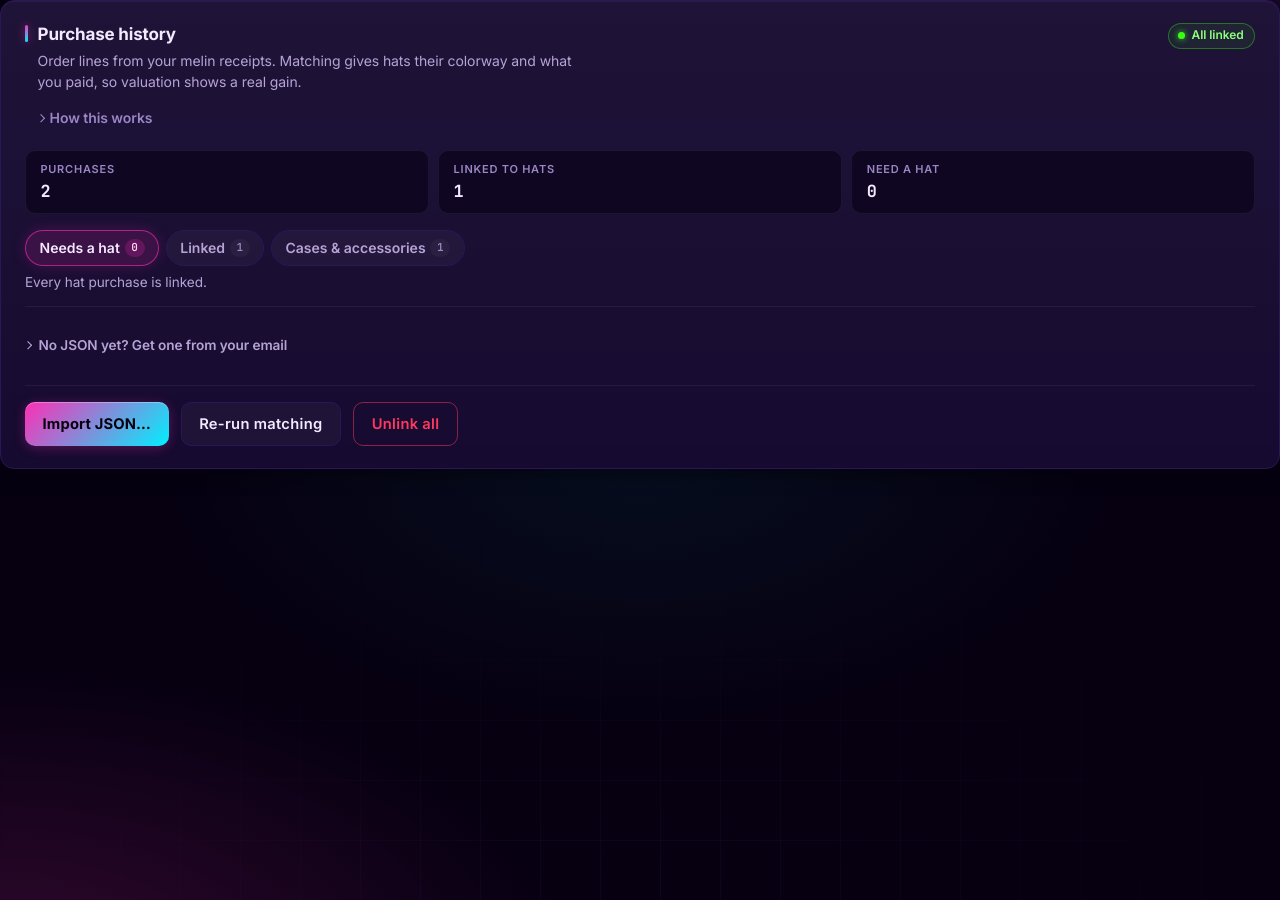
Test case: PurchasesCard — Unlink all asks first › does nothing when the dialog is canceled
The image size is (1280, 900).
Click the button "Unlink all". click: (406, 424)
box: [353,402,458,446]
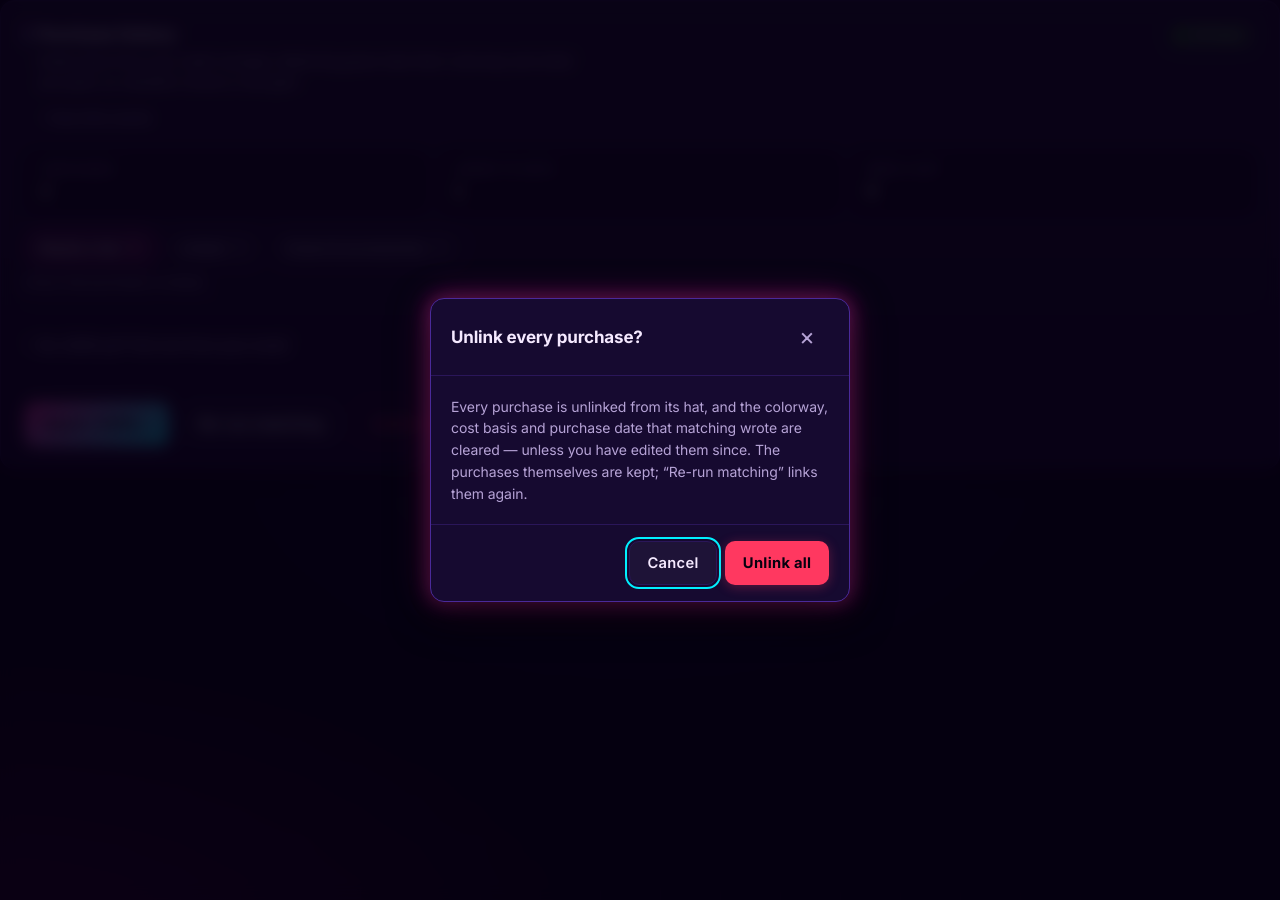
expect the dialog shows "colorway, cost basis and purchase date": met, box [451,398,828,502]
Click the button "Cancel". click: (673, 563)
box: [629,541,717,585]
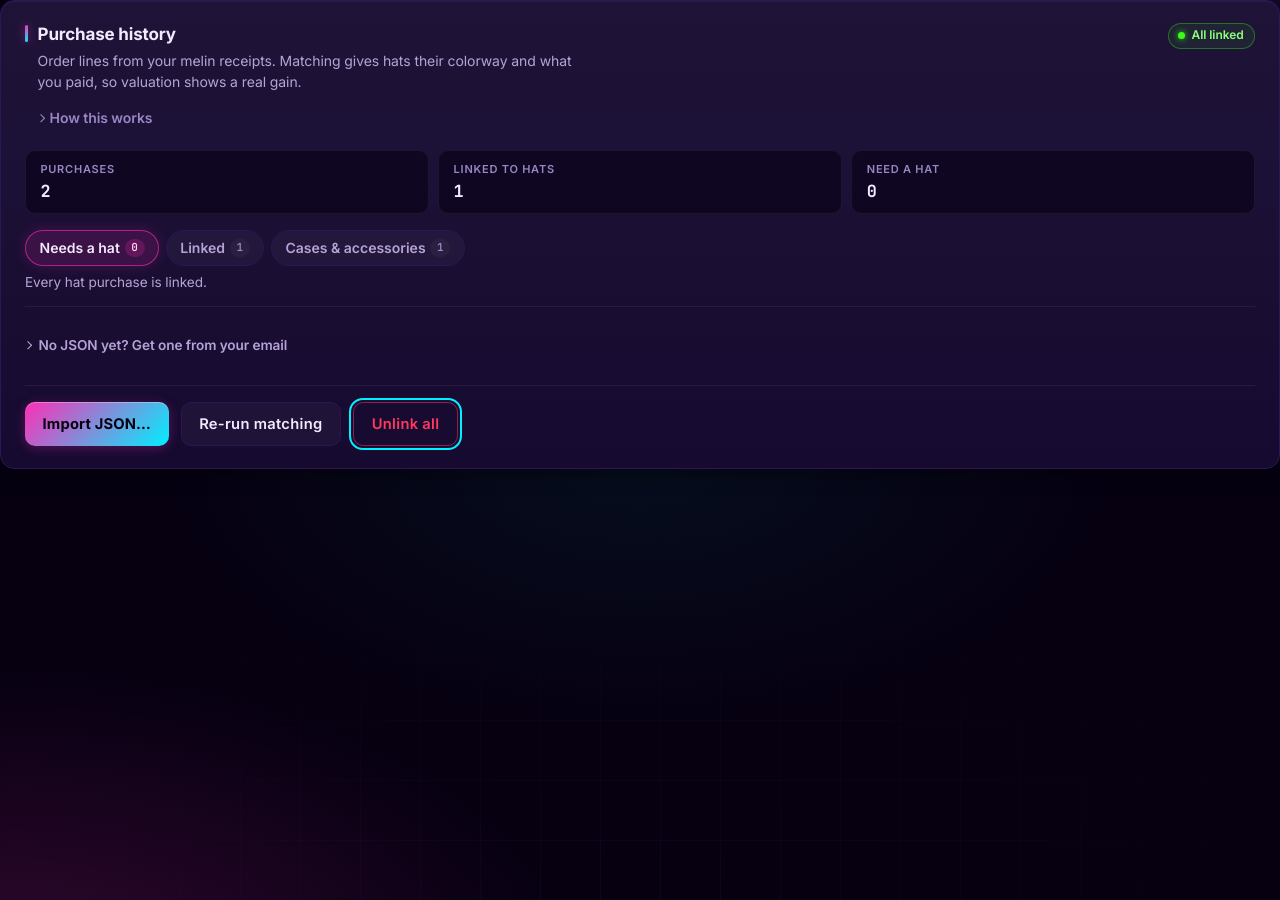
expect the dialog is gone: met
